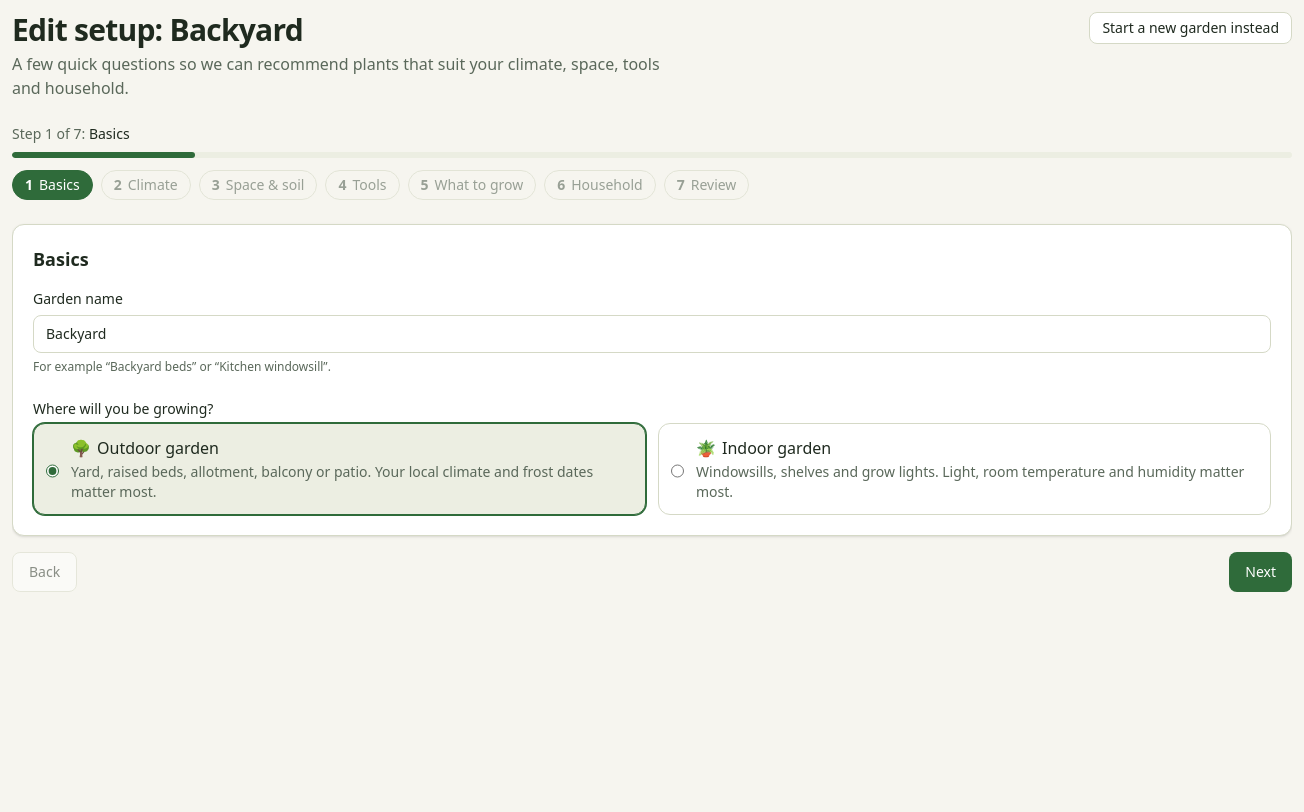
Test: SetupWizard (editing) › offers to switch back to editing
The width and height of the screenshot is (1304, 812).
Click the button "Start a new garden instead": (1191, 28) [1089,12,1292,44]
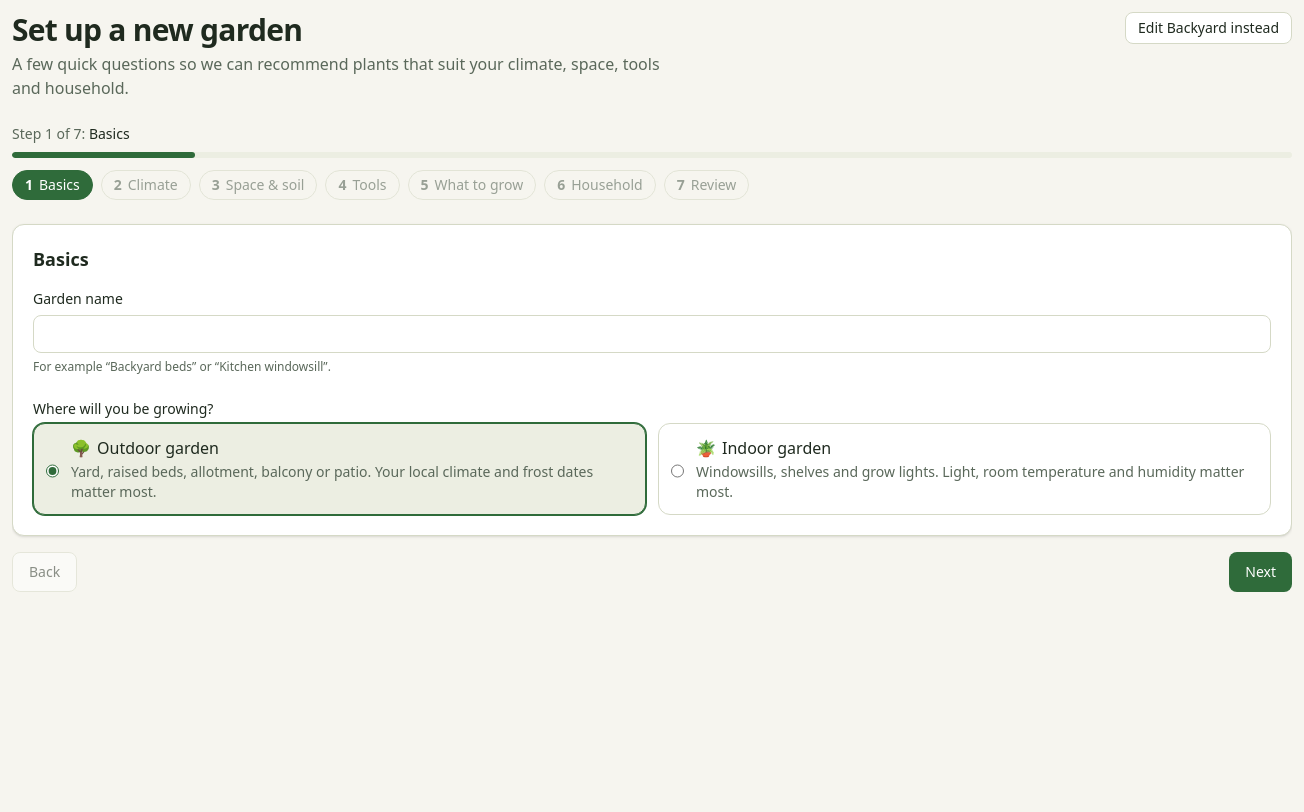
Click the button "Edit Backyard instead": (1208, 28) [1125,12,1292,44]
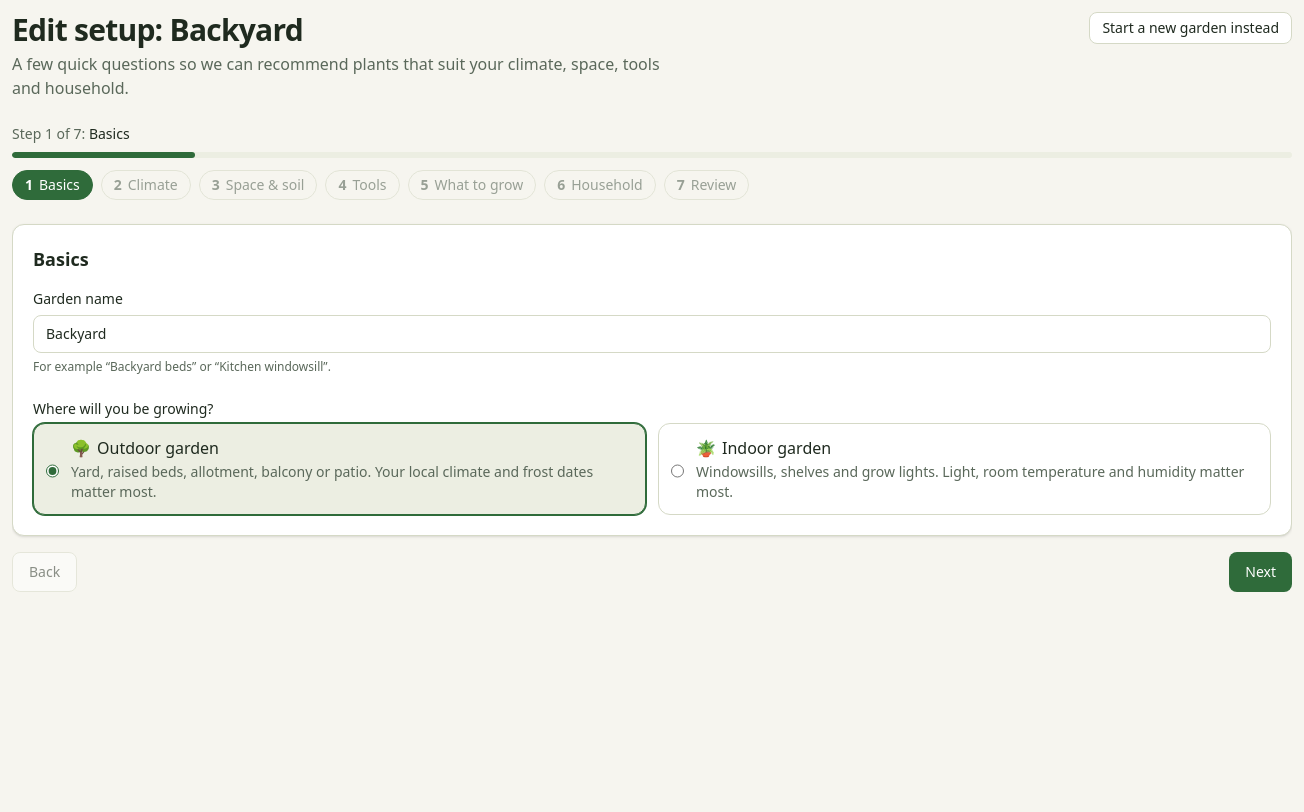
expect the field labelled "Garden name" holds "Backyard": met, box [33,315,1271,353]
